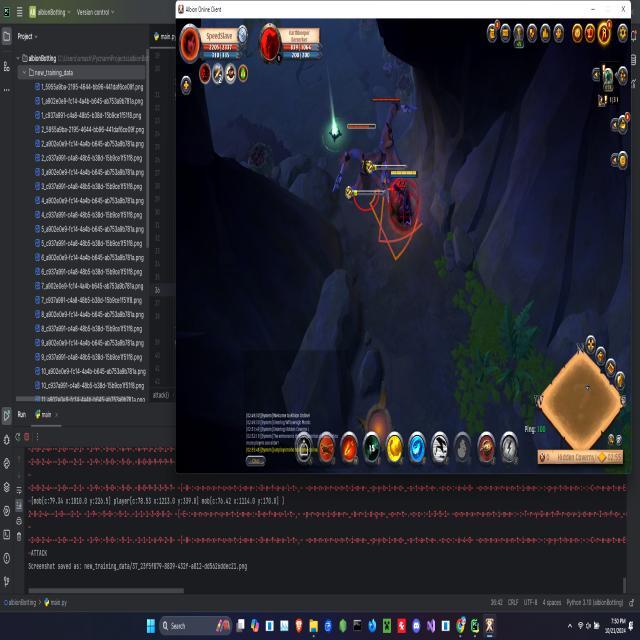ore: (334, 118, 390, 217), (368, 92, 408, 184)
red: (390, 167, 420, 231)
silver: (373, 175, 422, 261)
